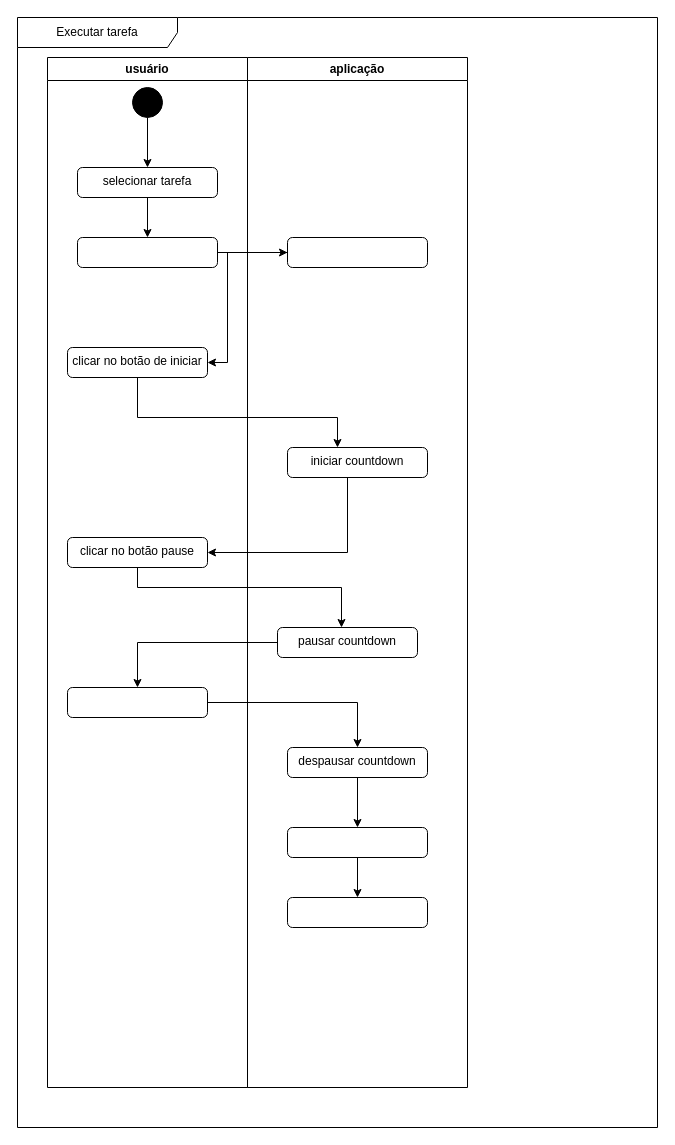
Image size: 675x1145. Some labels were removed from this diagram. Here are the shapes that lost their labels. From the top down, the centre of each, then its label:
point (147, 252): clica no botão play
point (357, 252): exibe cronômetro
point (137, 702): clicar em despause
point (357, 842): countdown chega à 00:00
point (357, 912): exibir mensagem de exito
